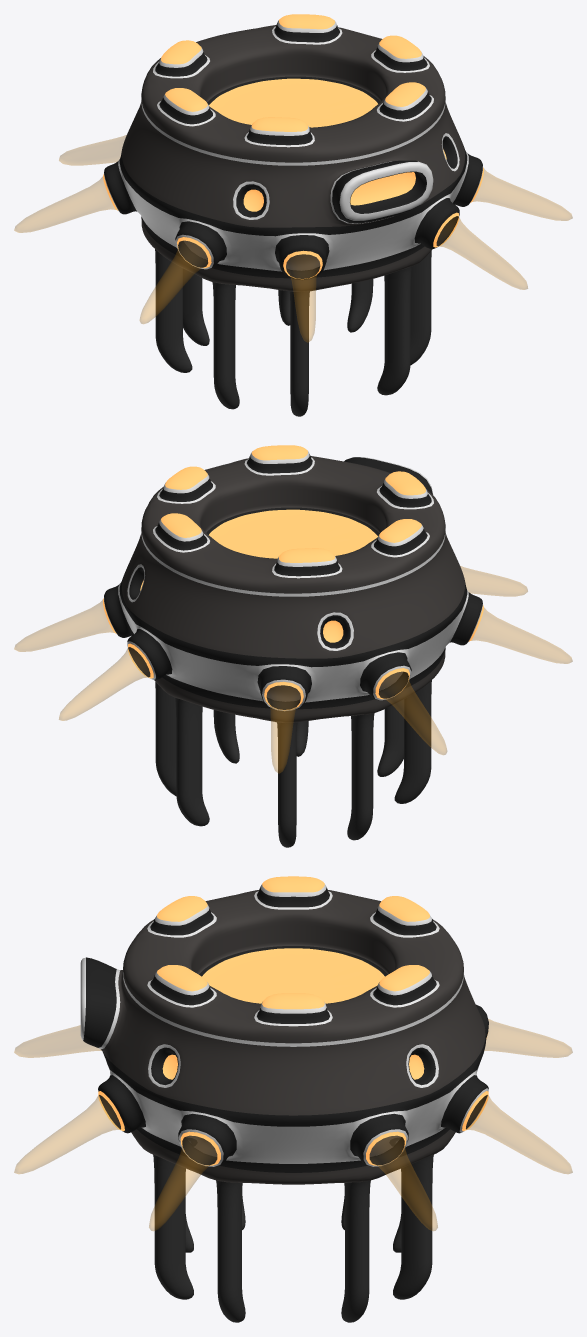
Rendered from Enemy_GreaterSpikey.fbx.
The picture shows the model from 3 angles, top to bottom: view 1: azimuth 30°, elevation 25°; view 2: azimuth 150°, elevation 25°; view 3: azimuth 270°, elevation 25°; orthographic projection. The views are drawn at different scales.
Parts seen in each view (by area): view 1: Bomber_Ship; view 2: Bomber_Ship; view 3: Bomber_Ship.
Part boxes in pixels (x1=…): Bomber_Ship: x1=14, y1=14, x2=572, y2=416; Bomber_Ship: x1=14, y1=445, x2=572, y2=847; Bomber_Ship: x1=14, y1=876, x2=572, y2=1322.
Bounding box in the file's own units: 161 × 108 × 161.
